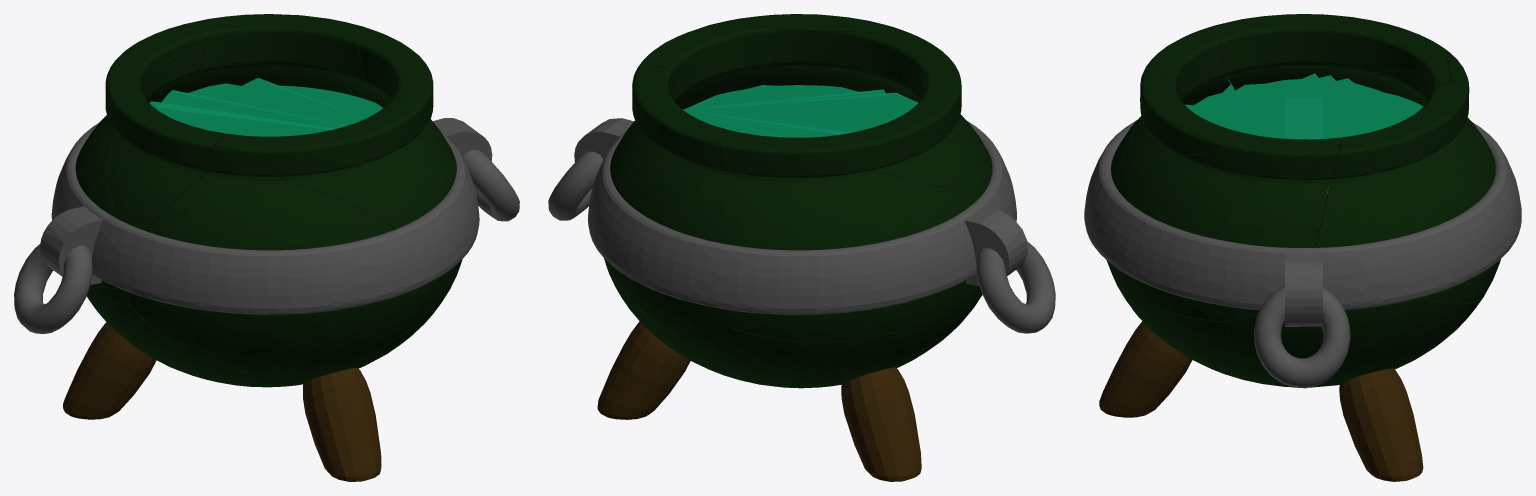
The model's file is cauldron_full.fbx.
The picture shows the model from 3 angles, left to right: view 1: azimuth 30°, elevation 25°; view 2: azimuth 150°, elevation 25°; view 3: azimuth 270°, elevation 25°; orthographic projection.
Visible parts, largest first — view 1: cauldronFilled; view 2: cauldronFilled; view 3: cauldronFilled.
Boxes of the visible parts, x1,y1,x2,y2 form: cauldronFilled: [14, 14, 519, 481]; cauldronFilled: [548, 14, 1055, 481]; cauldronFilled: [1084, 14, 1521, 481].
Size of the model in its own units: 132 by 84.13 by 102.
